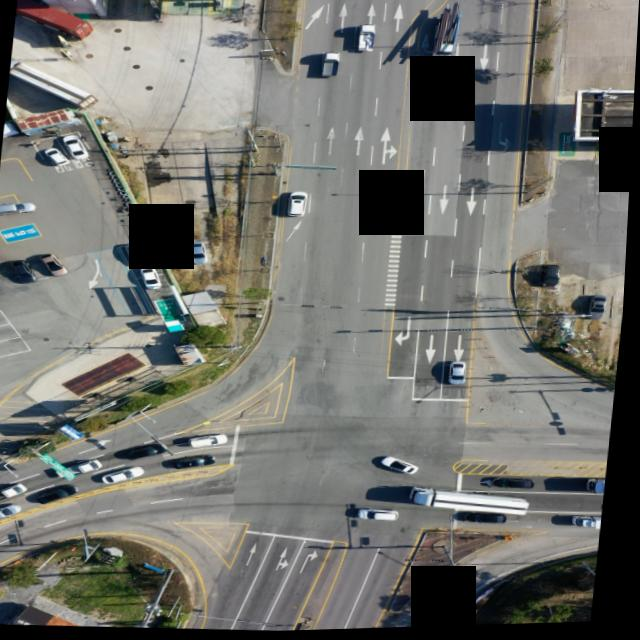car: (119, 443, 171, 464), (105, 466, 150, 487), (38, 482, 80, 504), (170, 456, 219, 472), (383, 457, 423, 476), (10, 261, 41, 284), (124, 244, 152, 268), (60, 133, 89, 156), (188, 435, 232, 450), (41, 254, 71, 275), (465, 513, 510, 527), (0, 502, 27, 525), (359, 510, 403, 524), (142, 266, 166, 290), (0, 200, 38, 215), (41, 148, 70, 167), (188, 243, 210, 267), (287, 193, 307, 218), (544, 267, 564, 291), (452, 363, 471, 387), (505, 481, 540, 493), (590, 300, 609, 320)
medium_truck: (9, 58, 105, 109), (413, 488, 535, 518), (434, 8, 459, 60), (590, 482, 611, 497)
small_truck: (59, 458, 105, 480), (0, 480, 35, 507), (355, 26, 375, 55), (319, 53, 340, 80), (582, 521, 607, 532)
